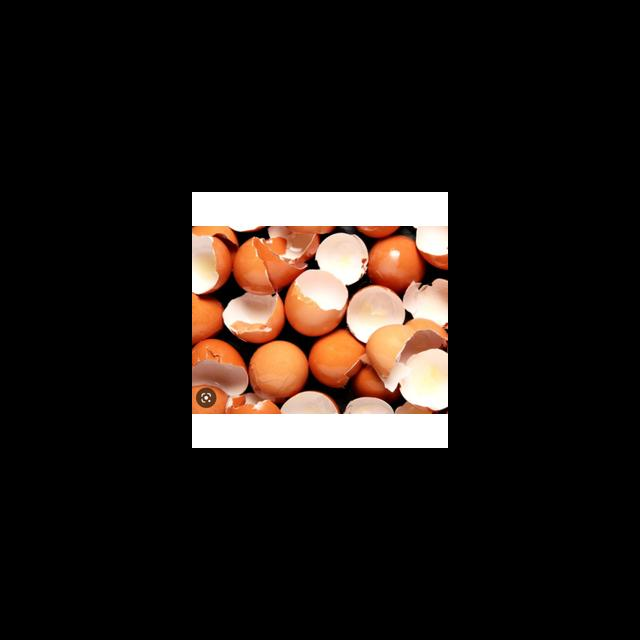food_waste: (362, 318, 448, 400), (246, 342, 314, 415), (232, 237, 301, 308), (192, 337, 257, 404), (307, 336, 378, 397), (313, 224, 370, 287), (295, 274, 349, 330), (228, 295, 290, 343), (192, 231, 235, 292), (347, 281, 394, 335), (192, 287, 228, 339), (412, 218, 448, 268)
